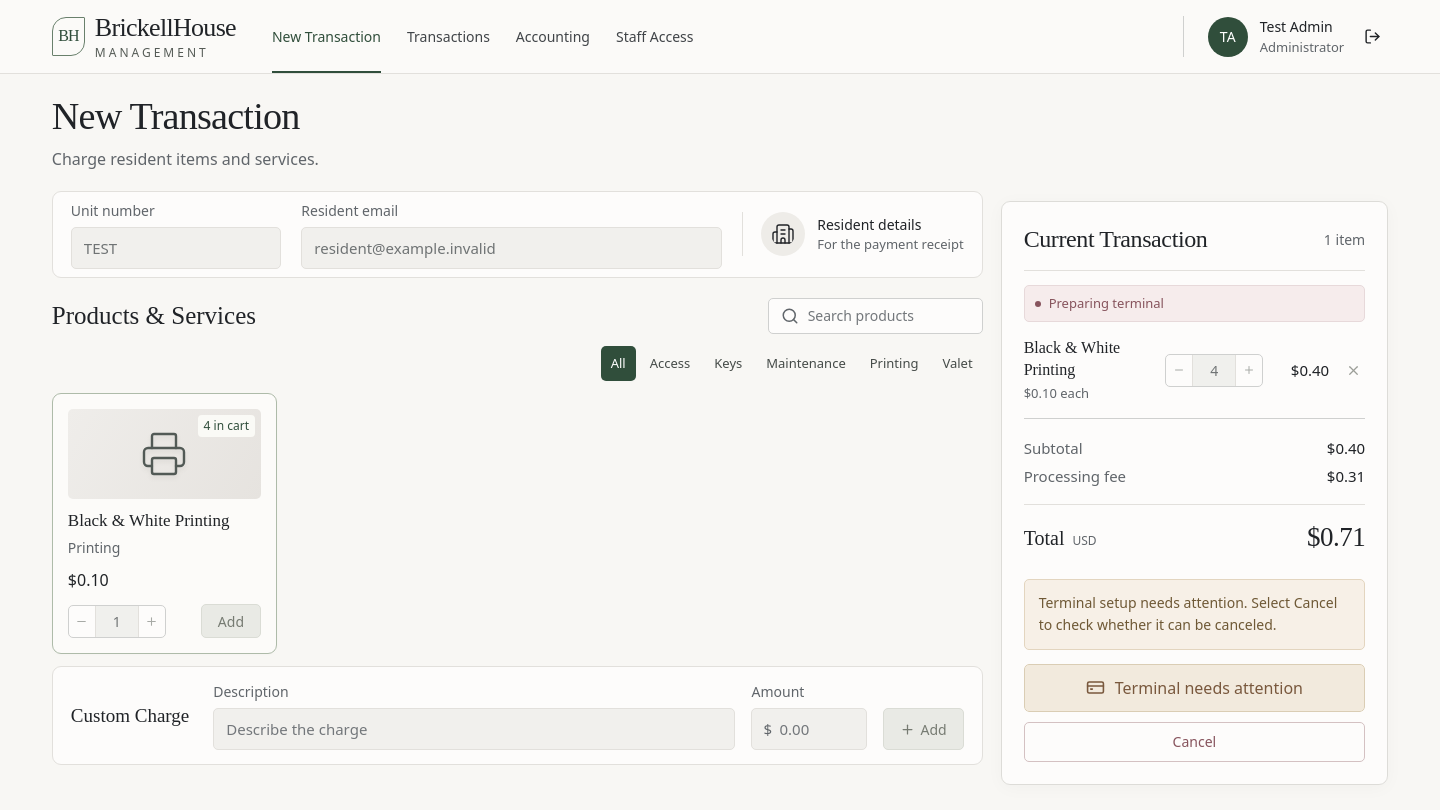
Scenario: employee payment lifecycle (local mocked DOM) › refresh shows stuck-setup guidance and retains the cart on uncertain cancellation
The image size is (1440, 810).
Expected: the button "Terminal needs attention" is shown, [1024,664,1365,712]
Click the button "Cancel" at (1194, 742), box [1024,722,1365,762]
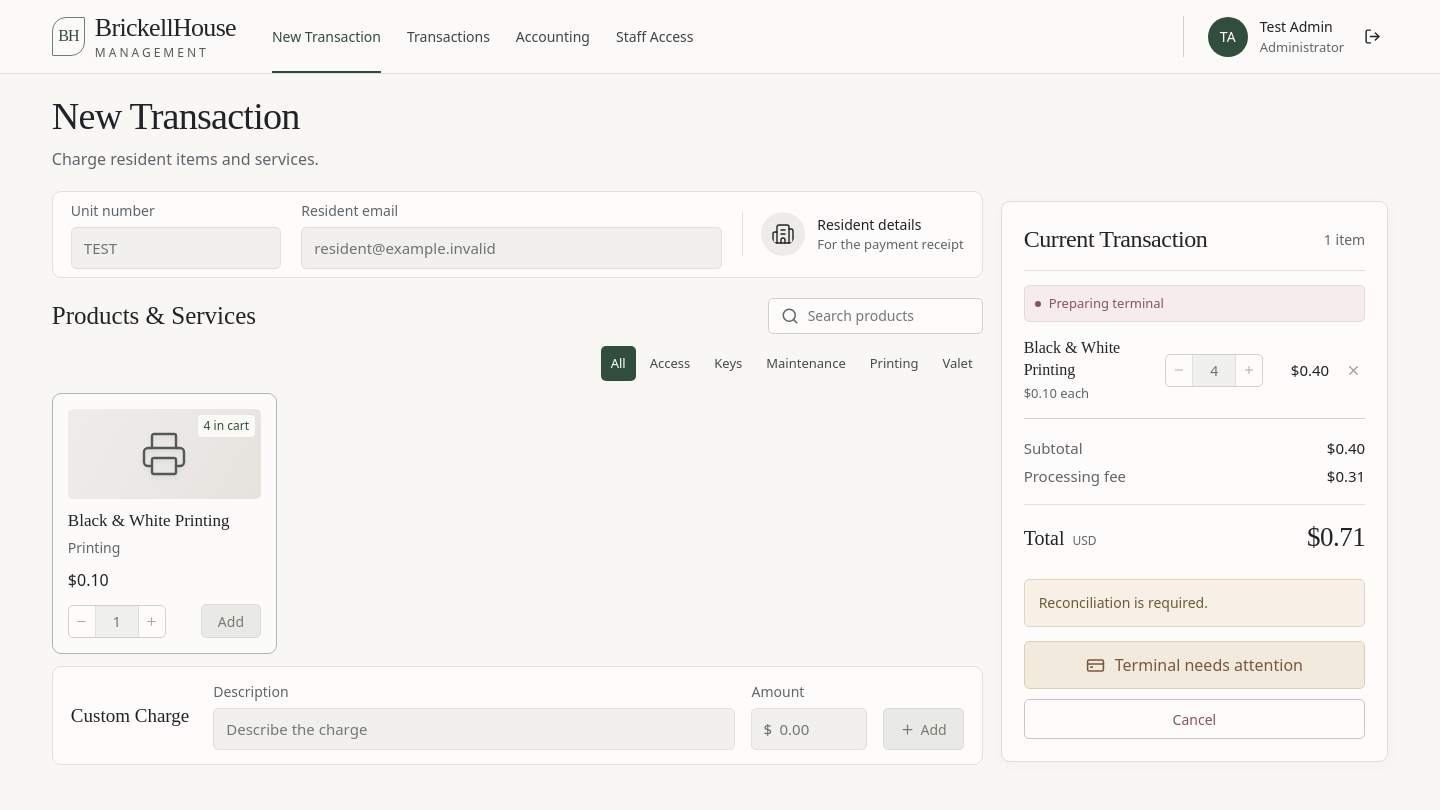
Expected: the field labelled "Unit number" is disabled, [71,227,281,269]
Expected: the text "Reconciliation is required." is shown, [1024,579,1365,627]
